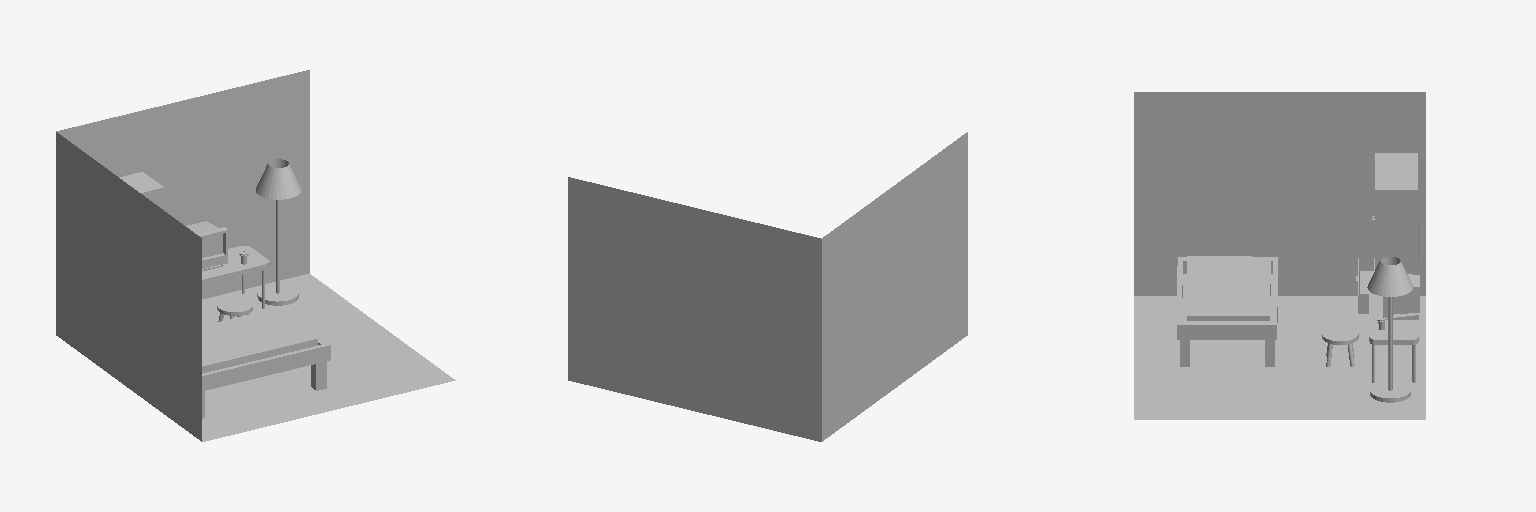
The picture shows the model from 3 angles: view 1: azimuth 30°, elevation 25°; view 2: azimuth 150°, elevation 25°; view 3: azimuth 270°, elevation 25°; orthographic projection.
Parts seen in each view (by area): view 1: Plane, bad_cusion_Cube.002, bad__Cube.003, Table_Cube, light_cap_Cylinder.001, computer_Cube.001, light_bottom_Cylinder, cloth_Cube.005, chair_Cylinder.002; view 2: Plane; view 3: Plane, cloth_Cube.005, bad_cusion_Cube.002, bad__Cube.003, Table_Cube, light_cap_Cylinder.001, light_bottom_Cylinder, computer_Cube.001, chair_Cylinder.002.
Boxes of the visible parts, x1=… form: Plane: x1=56, y1=70, x2=455, y2=441; bad_cusion_Cube.002: x1=202, y1=308, x2=317, y2=373; bad__Cube.003: x1=202, y1=308, x2=330, y2=418; Table_Cube: x1=202, y1=246, x2=269, y2=308; light_cap_Cylinder.001: x1=256, y1=159, x2=301, y2=199; computer_Cube.001: x1=186, y1=221, x2=227, y2=270; light_bottom_Cylinder: x1=257, y1=200, x2=298, y2=305; cloth_Cube.005: x1=119, y1=172, x2=163, y2=209; chair_Cylinder.002: x1=217, y1=297, x2=252, y2=321; Plane: x1=568, y1=132, x2=967, y2=441; Plane: x1=1134, y1=92, x2=1425, y2=419; cloth_Cube.005: x1=1356, y1=153, x2=1418, y2=313; bad_cusion_Cube.002: x1=1187, y1=256, x2=1270, y2=320; bad__Cube.003: x1=1177, y1=257, x2=1277, y2=366; Table_Cube: x1=1369, y1=292, x2=1418, y2=382; light_cap_Cylinder.001: x1=1367, y1=256, x2=1412, y2=296; light_bottom_Cylinder: x1=1370, y1=297, x2=1410, y2=402; computer_Cube.001: x1=1383, y1=274, x2=1419, y2=319; chair_Cylinder.002: x1=1322, y1=326, x2=1358, y2=366.
Bounding box in the file's own units: 12.23 × 9.39 × 12.23.